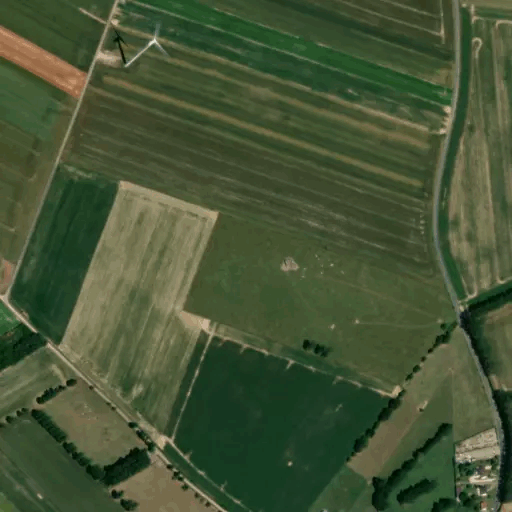wt: (106, 17, 172, 79)
